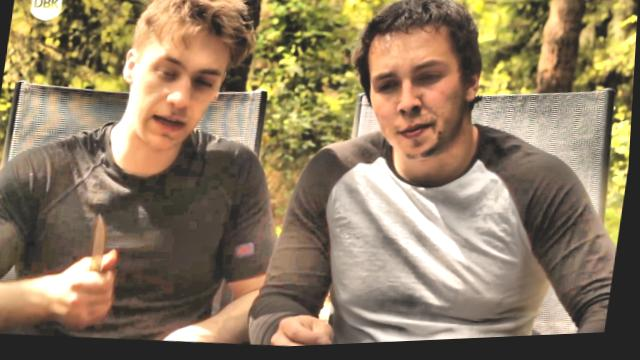knife: (61, 201, 137, 325)
